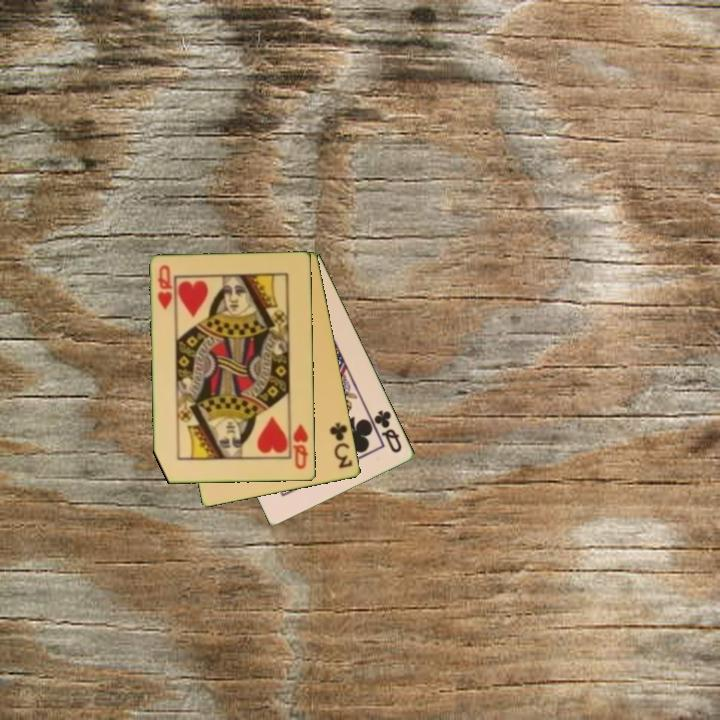3c: (326, 419, 356, 471)
Qc: (371, 406, 405, 456)
Qh: (290, 420, 312, 472), (154, 262, 176, 312)
